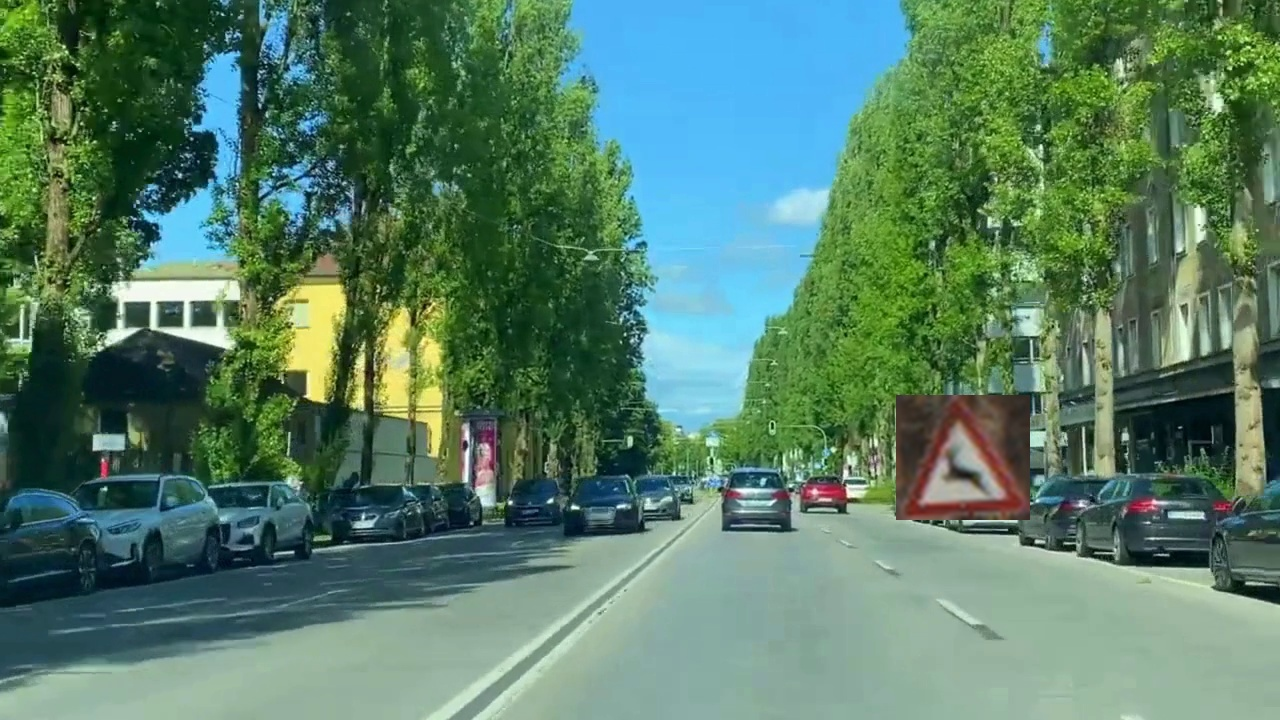Wild animals: (896, 395, 1030, 520)
